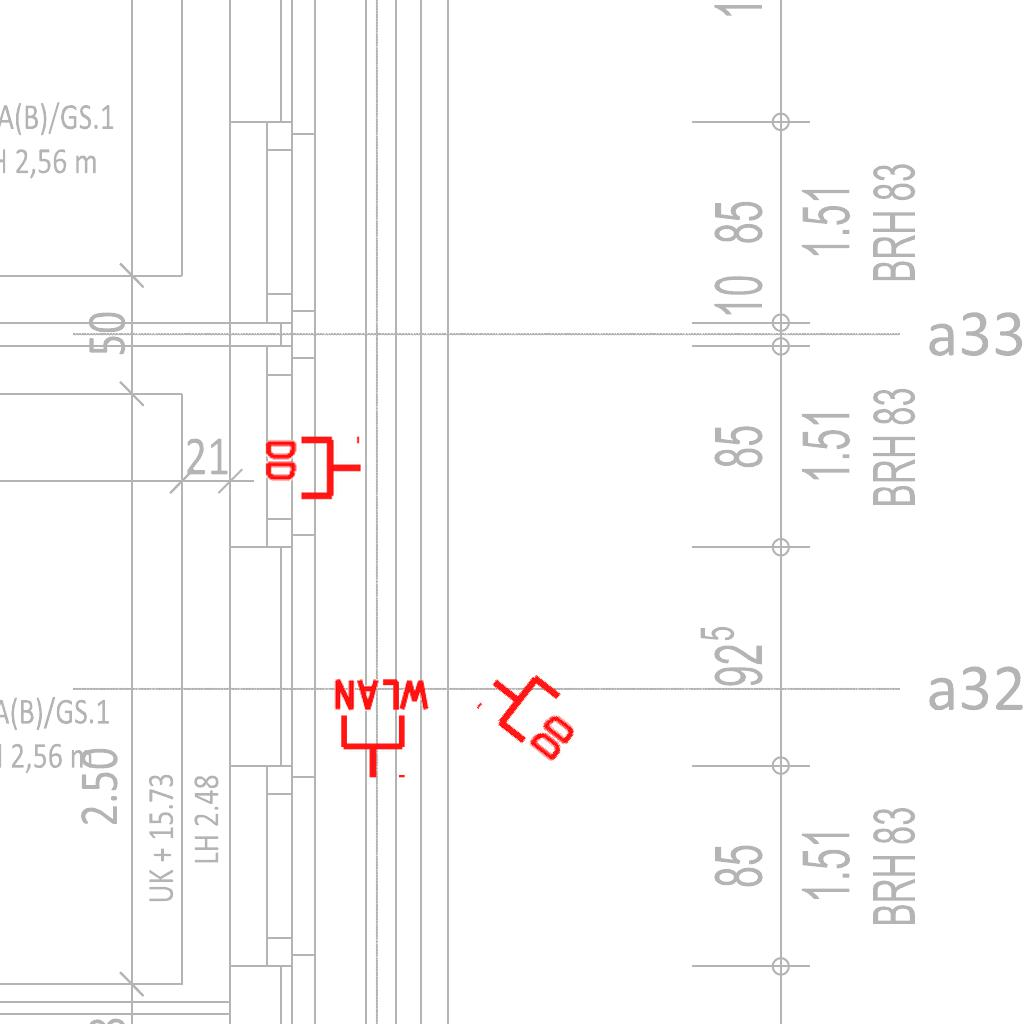Datenanschluss_zweifach: (471, 651, 596, 770), (261, 435, 364, 504)
WLAN: (330, 677, 434, 782)
